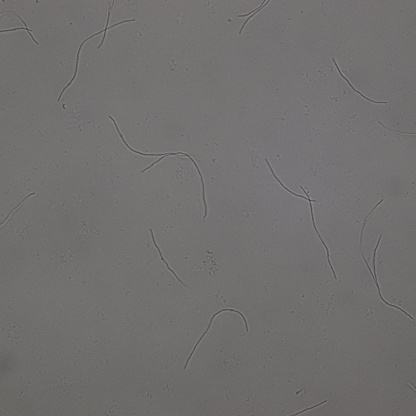Sensitive: (110, 116, 208, 219), (59, 13, 136, 101), (360, 199, 413, 320), (184, 307, 248, 367), (301, 187, 337, 277), (332, 58, 387, 104), (267, 159, 317, 205), (151, 230, 184, 288), (1, 9, 38, 46), (237, 1, 270, 35)
